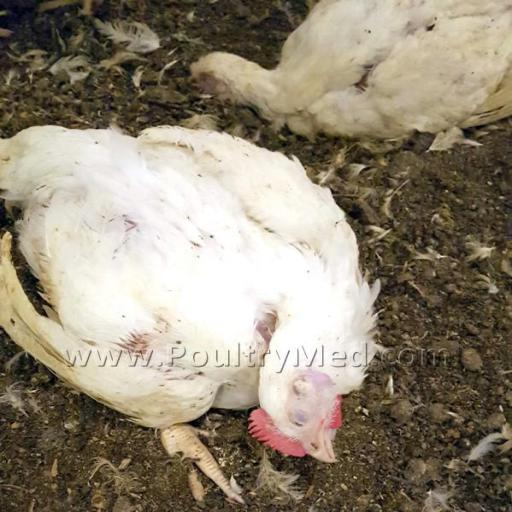disease: (261, 348, 362, 478)
